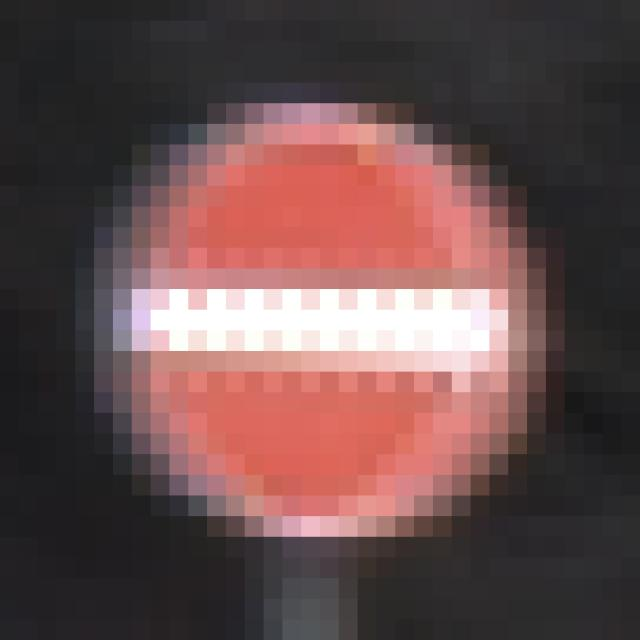No Entry: (95, 104, 547, 538)
